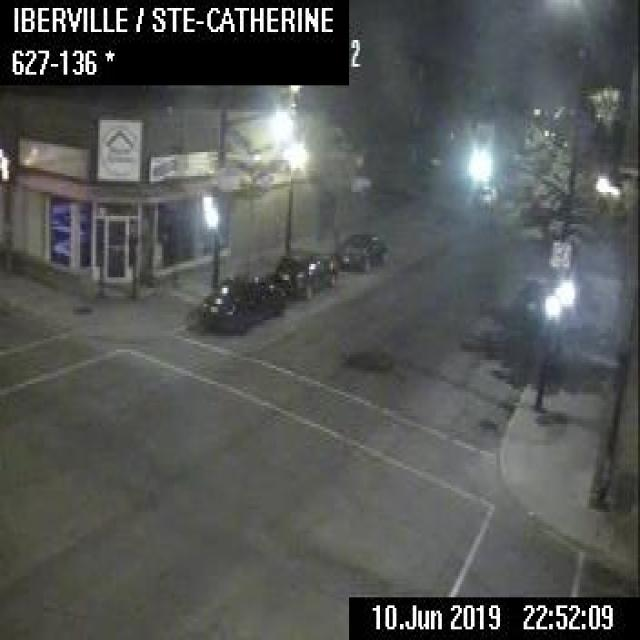vehicle: (200, 269, 281, 331), (274, 250, 337, 298), (332, 229, 388, 271)
